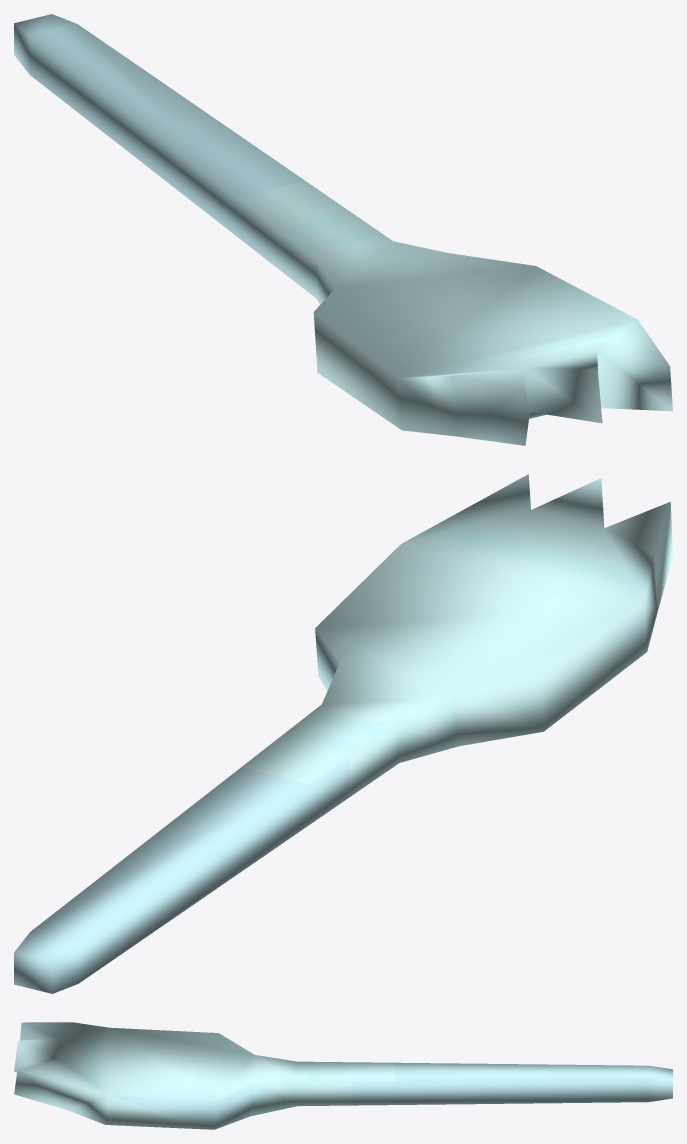
The model's file is PlasticSpork.fbx.
3 renders of one model, top to bottom at view 1: azimuth 30°, elevation 25°; view 2: azimuth 150°, elevation 25°; view 3: azimuth 270°, elevation 25°, orthographic. The views are drawn at different scales.
Visible parts, largest first — view 1: Spork; view 2: Spork; view 3: Spork.
Part boxes in pixels (x1,y1,x2,y2): Spork: [14, 14, 672, 445]; Spork: [14, 474, 672, 993]; Spork: [14, 1022, 672, 1129].
Bounding box in the file's own units: 7.94 × 3.28 × 32.51.
